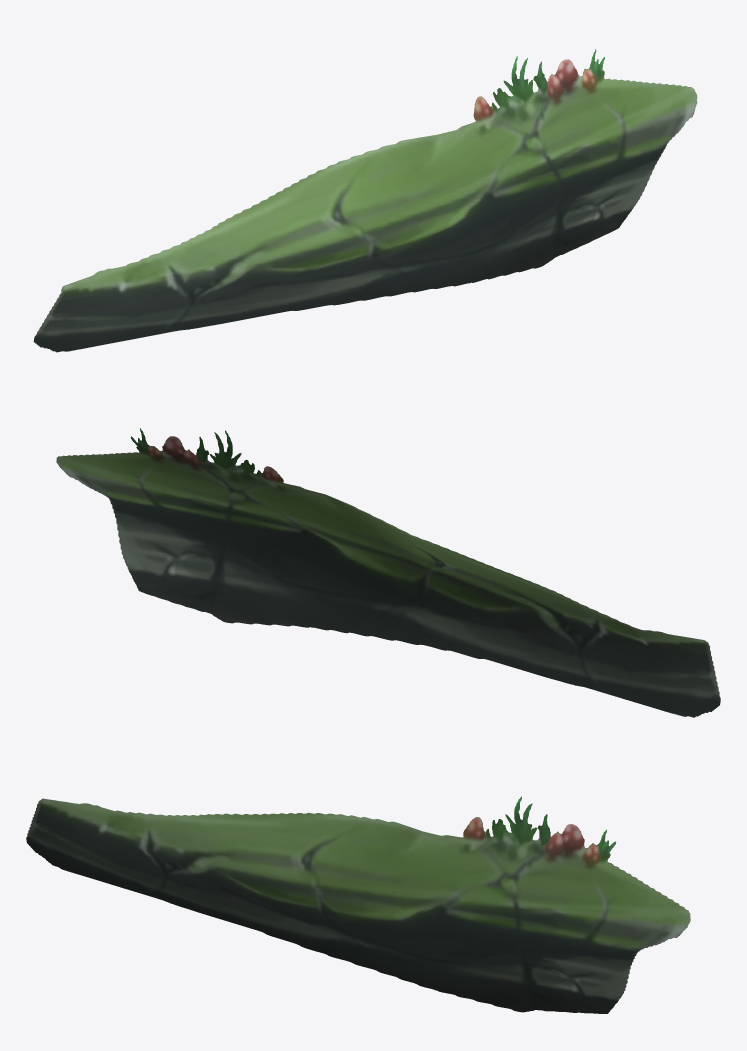
Rendered from Balancing Rock.FBX.
The picture shows the model from 3 angles, top to bottom: view 1: azimuth 30°, elevation 25°; view 2: azimuth 150°, elevation 25°; view 3: azimuth 330°, elevation 25°; orthographic projection.
Visible parts, largest first — view 1: Balancing Rock; view 2: Balancing Rock; view 3: Balancing Rock.
Part boxes in pixels (bbox=[...]): Balancing Rock: bbox=[33, 49, 697, 352]; Balancing Rock: bbox=[56, 428, 720, 717]; Balancing Rock: bbox=[26, 796, 690, 1013].
Bounding box in the file's own units: 158 × 14.64 × 49.11.
